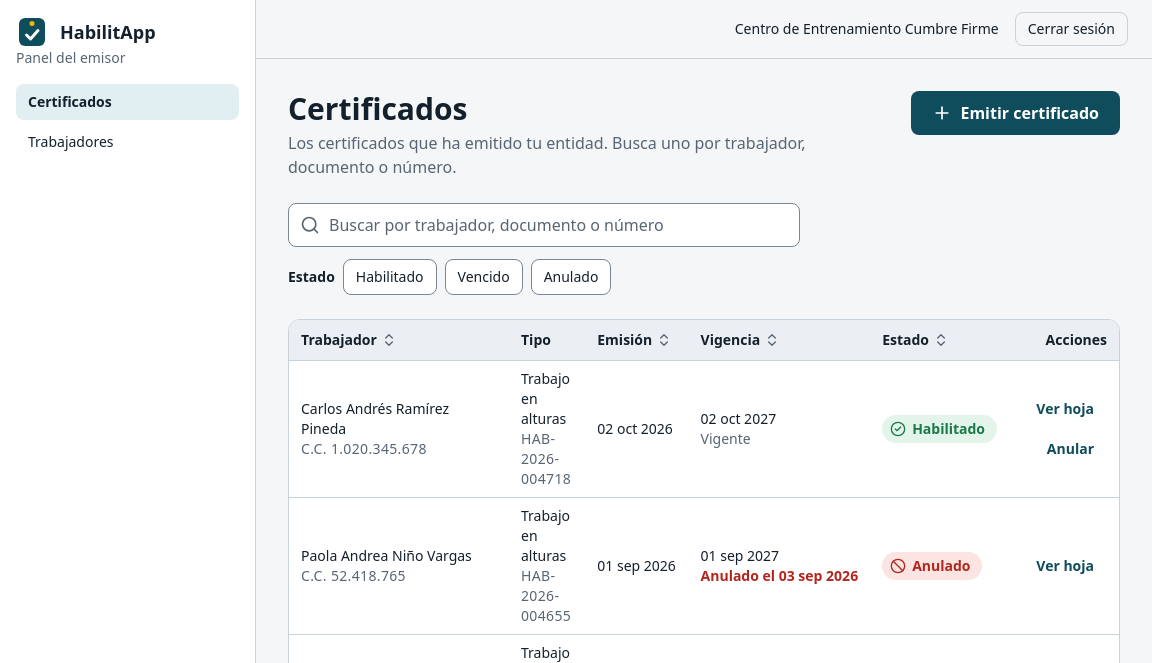
Test: CertificatesPage › annulling › opens the dialog for the row with its code and enables the red button after typing anular
Click the button with aria-label "Anular el certificado HAB-2026-004718". click: (1070, 448)
box: [1034,430,1107,466]
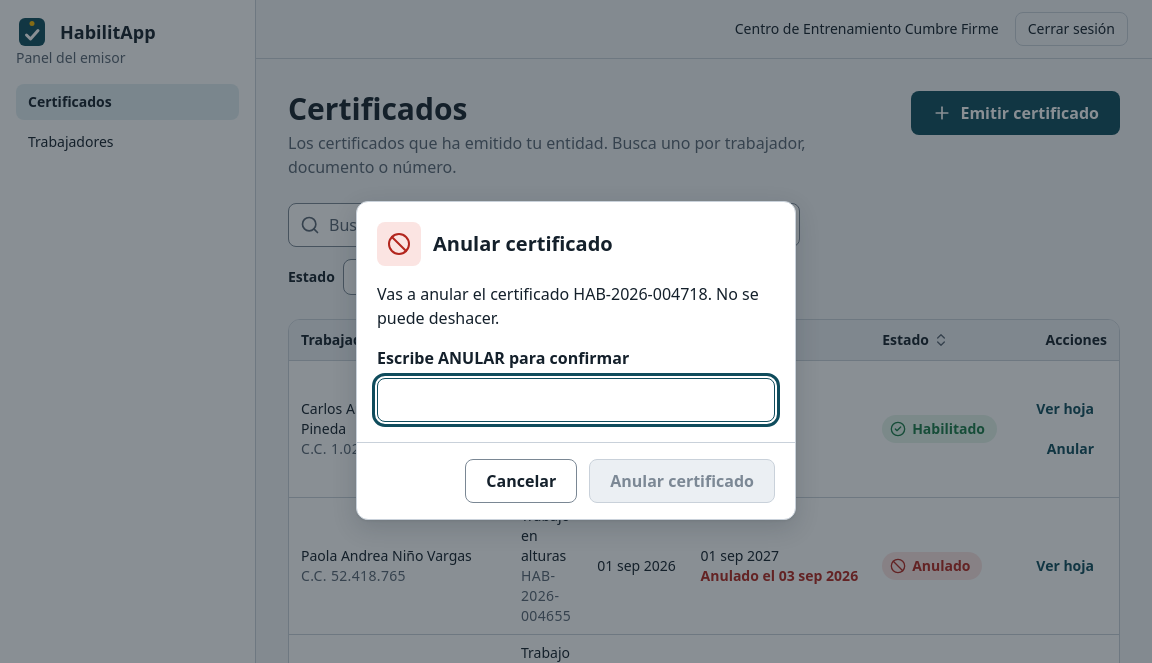
Check: the dialog "Anular certificado" shows "Vas a anular el certificado HAB-2026-004718. No se puede deshacer.", box [356,200,796,520]
Check: the button "Anular certificado" is disabled, box [589,458,775,502]
Type "AnUlAr" into the field labelled "Escribe ANULAR para confirmar". click: (576, 400)
box: [377,378,775,422]
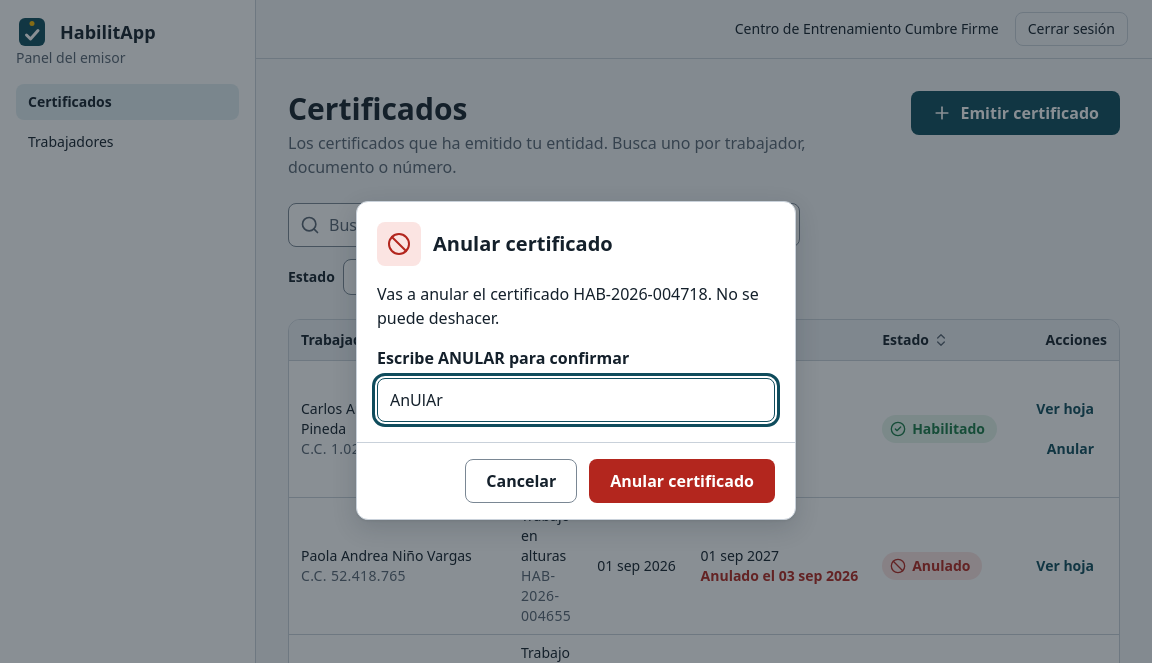
Check: the button "Anular certificado" is enabled, box [589,458,775,502]
